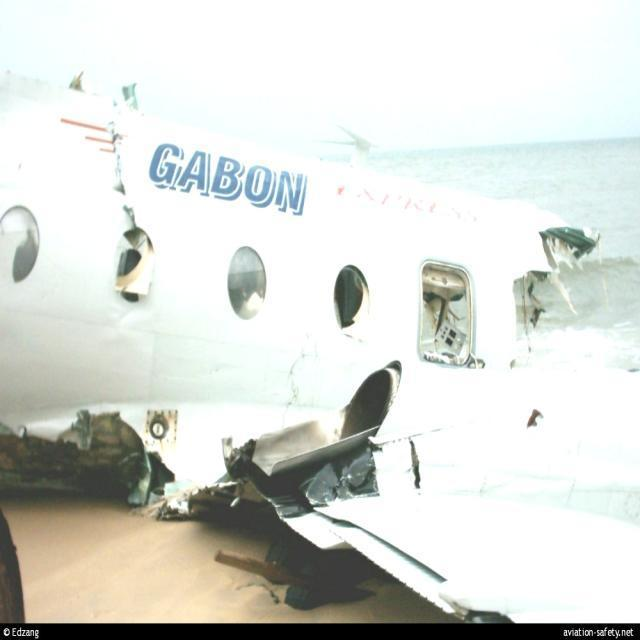crack: (275, 337, 318, 430), (108, 117, 139, 229), (403, 436, 426, 493)
